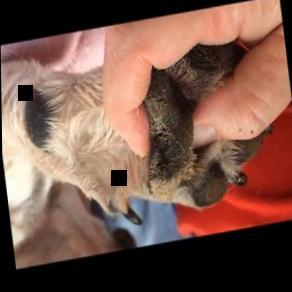keratosis: (128, 43, 250, 211)
